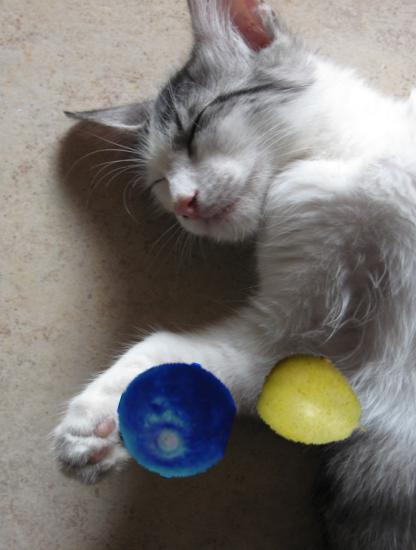Huckleberry: (117, 360, 235, 478)
Pear: (259, 346, 374, 461)
